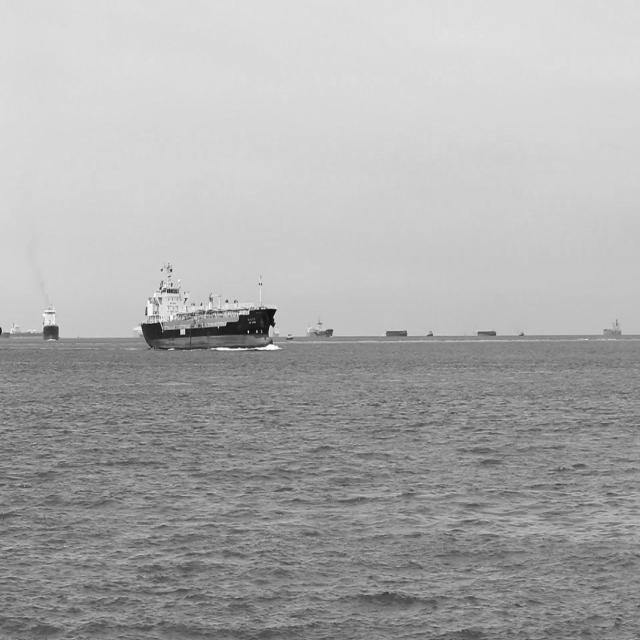ship: (138, 257, 278, 354), (0, 320, 42, 340), (43, 304, 61, 343), (305, 316, 333, 338), (601, 313, 625, 338)
